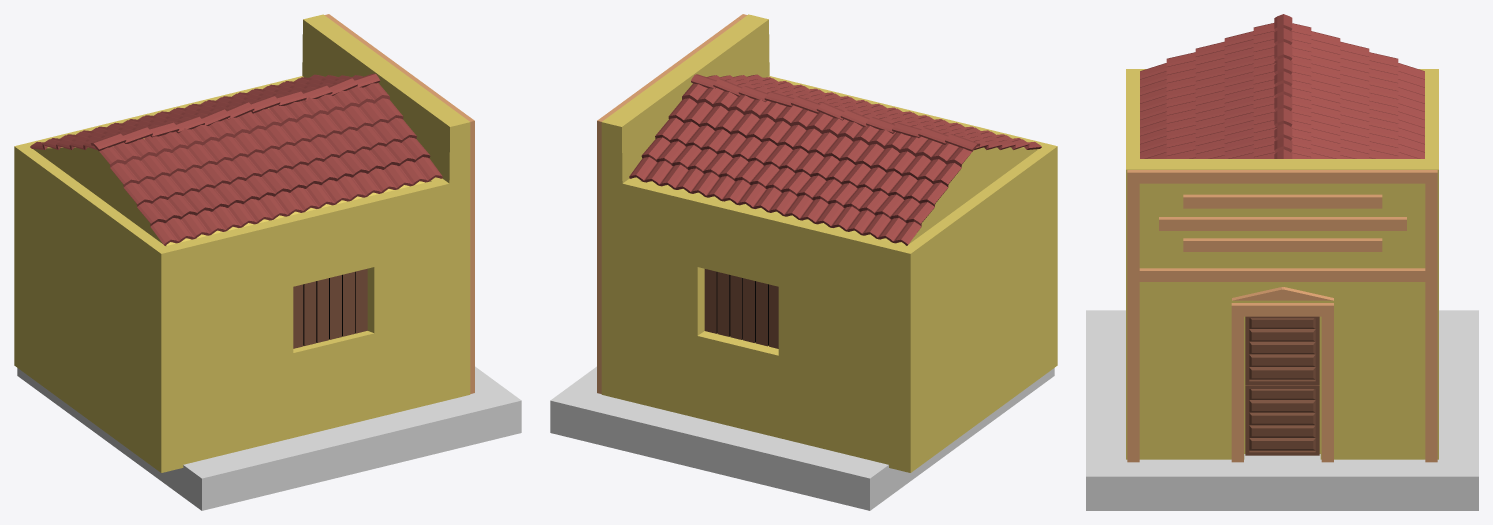
The model's file is casa2.fbx.
3 views of the same model, side by side, from view 1: azimuth 30°, elevation 25°; view 2: azimuth 150°, elevation 25°; view 3: azimuth 270°, elevation 25° (orthographic). The views are drawn at different scales.
Parts seen in each view (by area): view 1: Cube, Cube.006; view 2: Cube, Cube.006; view 3: Cube, Cube.006.
Boxes of the visible parts, x1,y1,x2,y2 form: Cube: (14, 14, 474, 472); Cube.006: (17, 366, 521, 510); Cube: (597, 14, 1057, 472); Cube.006: (550, 366, 1054, 510); Cube: (1126, 14, 1438, 462); Cube.006: (1086, 310, 1478, 510).
Size of the model in its own units: 268 by 230 by 251.
